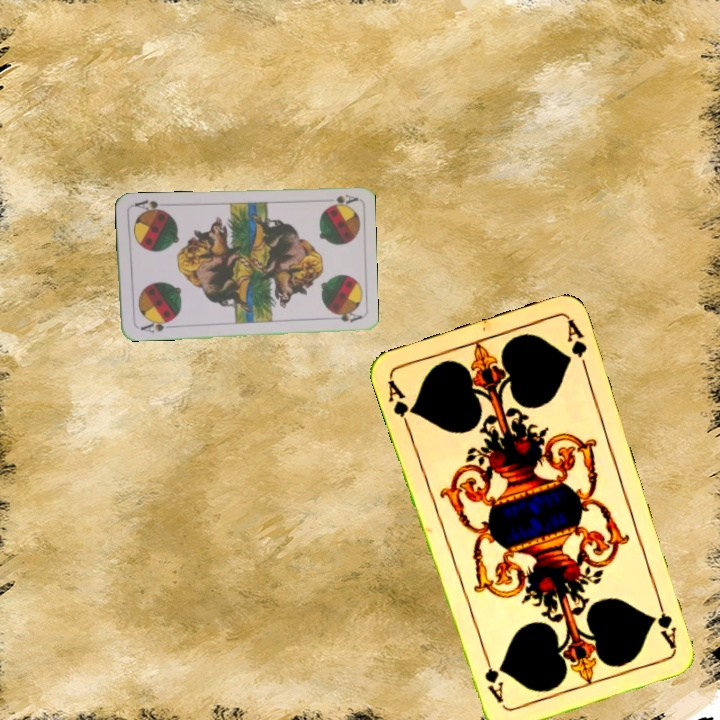GA: (383, 376, 418, 433), (651, 593, 679, 651)
SA: (322, 190, 359, 210), (136, 316, 174, 335)
